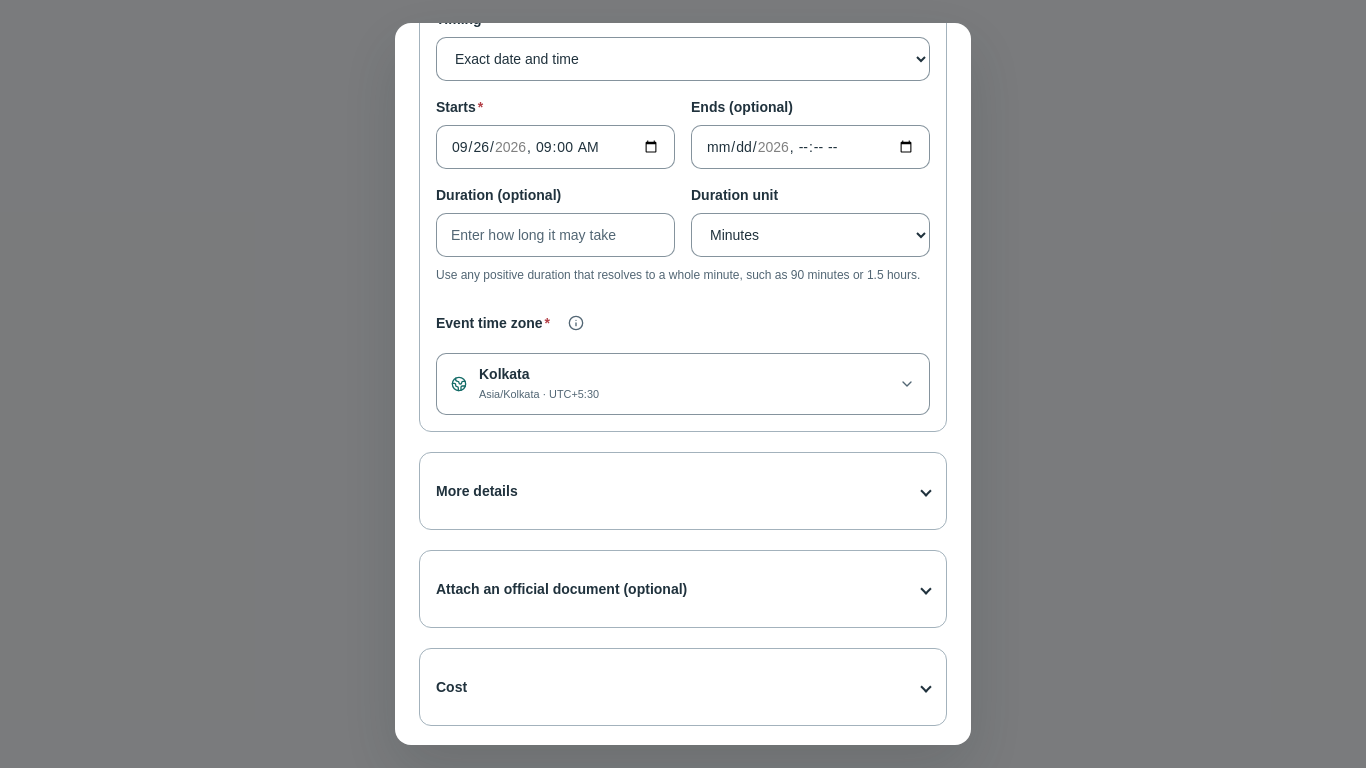
Test: event form architecture › protects picker changes even when no text field was edited
(page scrolled)
Replace the text in the field named "timezone" with "Asia/Dubai": [683, 384] box [436, 353, 930, 415]
(page scrolled)
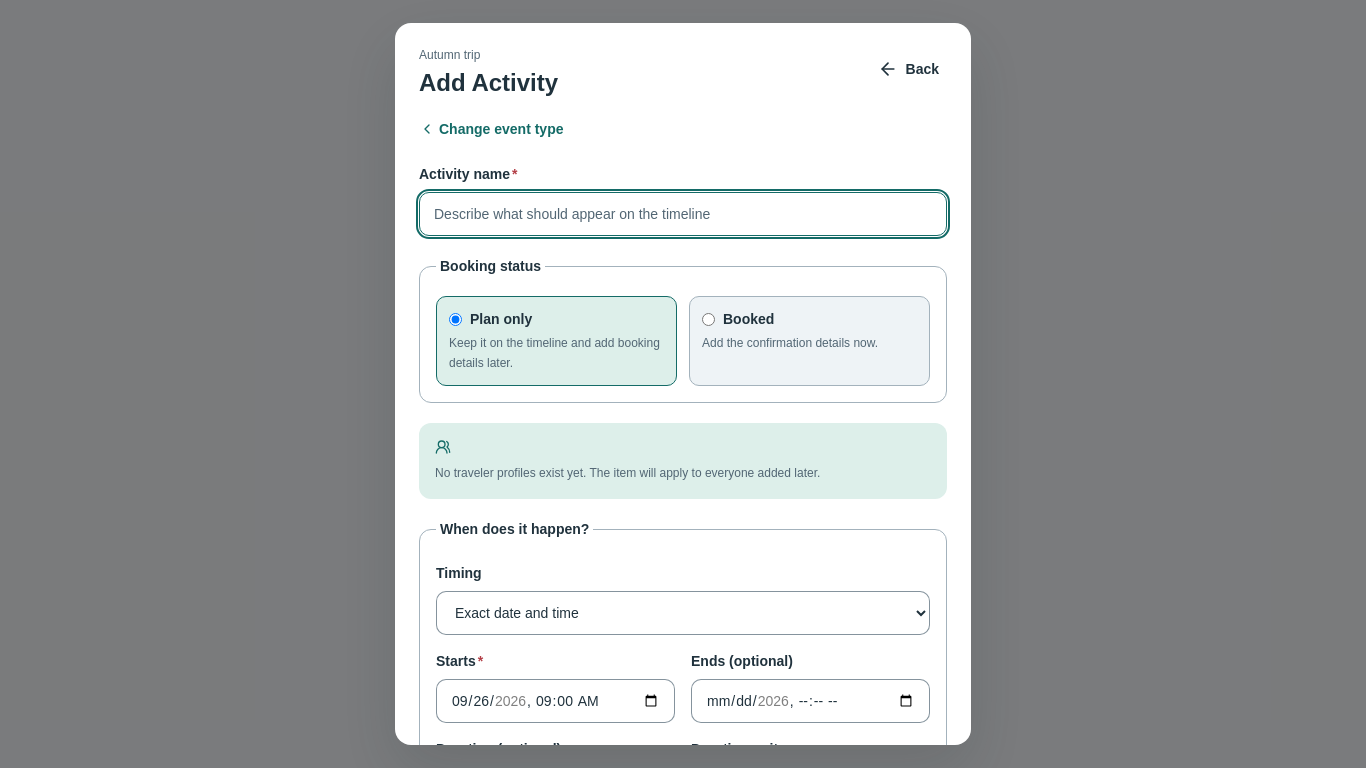
Click the button "Back": [908, 69] box [870, 47, 947, 91]
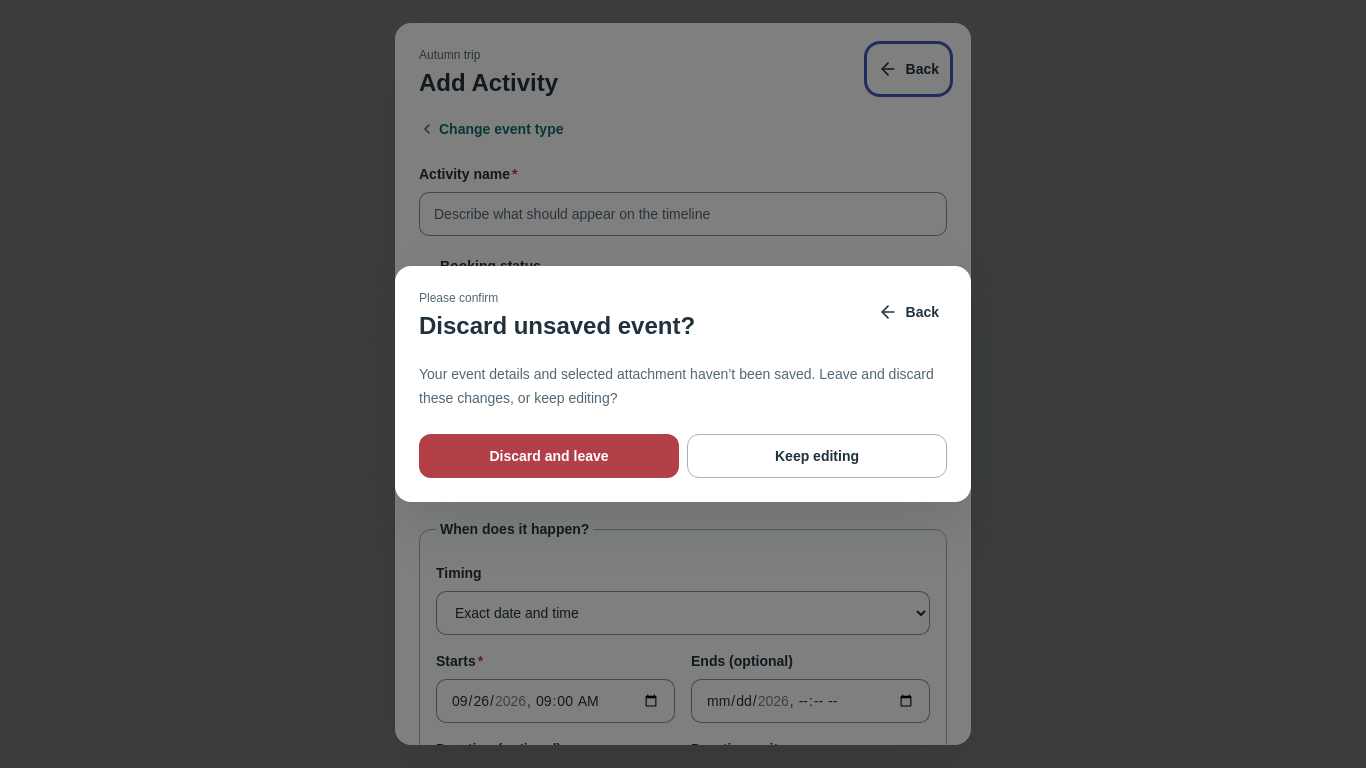
Result: the button "Keep editing" is shown at [687, 434, 947, 478]
